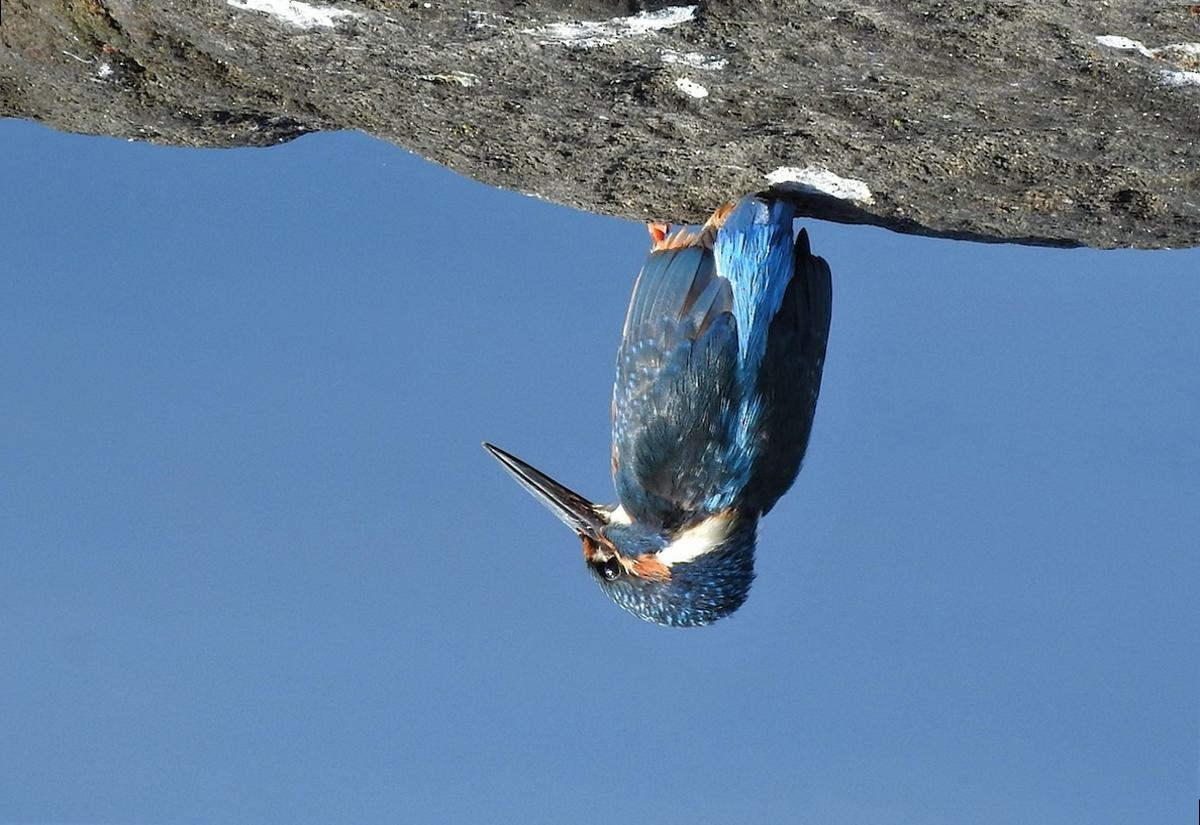kingfisher: (511, 186, 851, 621)
